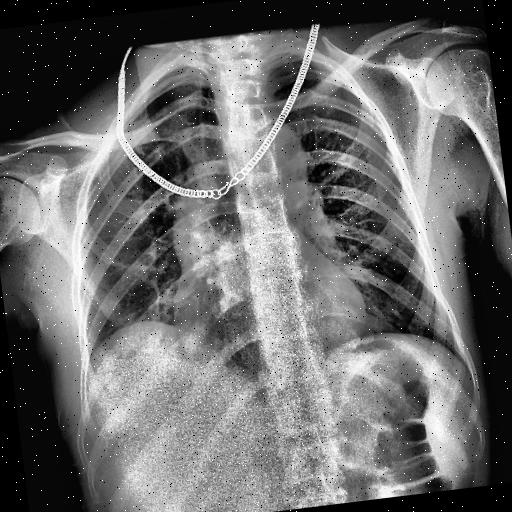0- Aortic enlargement: (204, 120, 314, 238), (176, 162, 260, 284)
3- Cardiomegaly: (162, 261, 378, 369)
7- Lung Opacity: (152, 131, 264, 349)
